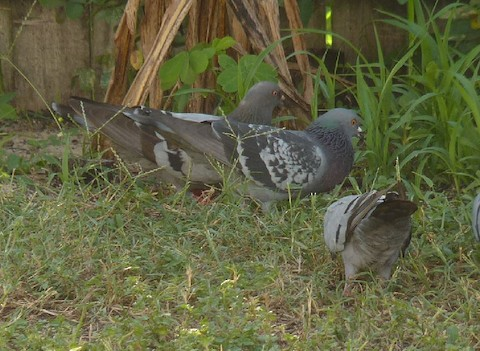pigeon: (45, 76, 293, 206), (160, 103, 366, 231), (320, 172, 424, 296)
